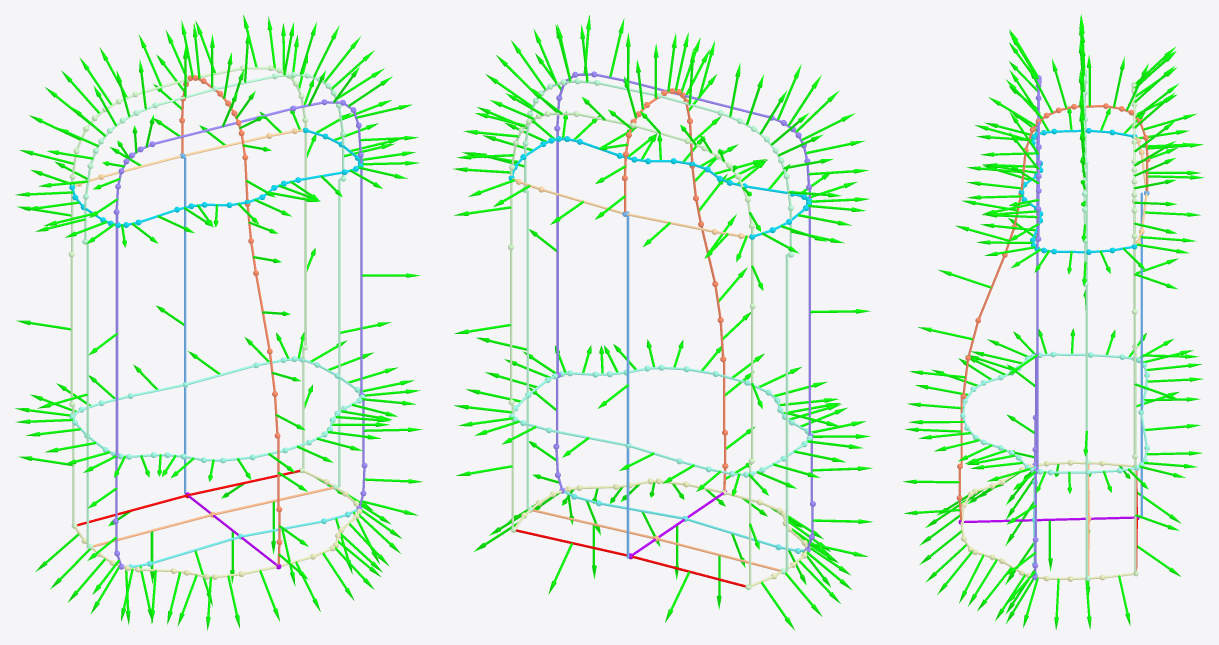
The picture shows the model from 3 angles, left to right: view 1: azimuth 30°, elevation 25°; view 2: azimuth 150°, elevation 25°; view 3: azimuth 270°, elevation 25°; orthographic projection. The views are drawn at different scales.
Bounding box in the file's own units: 0.6981 × 0.9907 × 0.5249.
